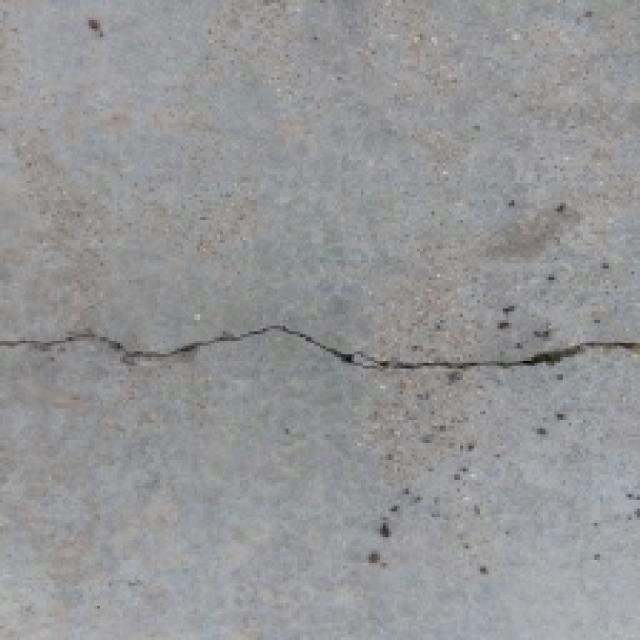SurfaceCrack: (6, 300, 638, 410)
